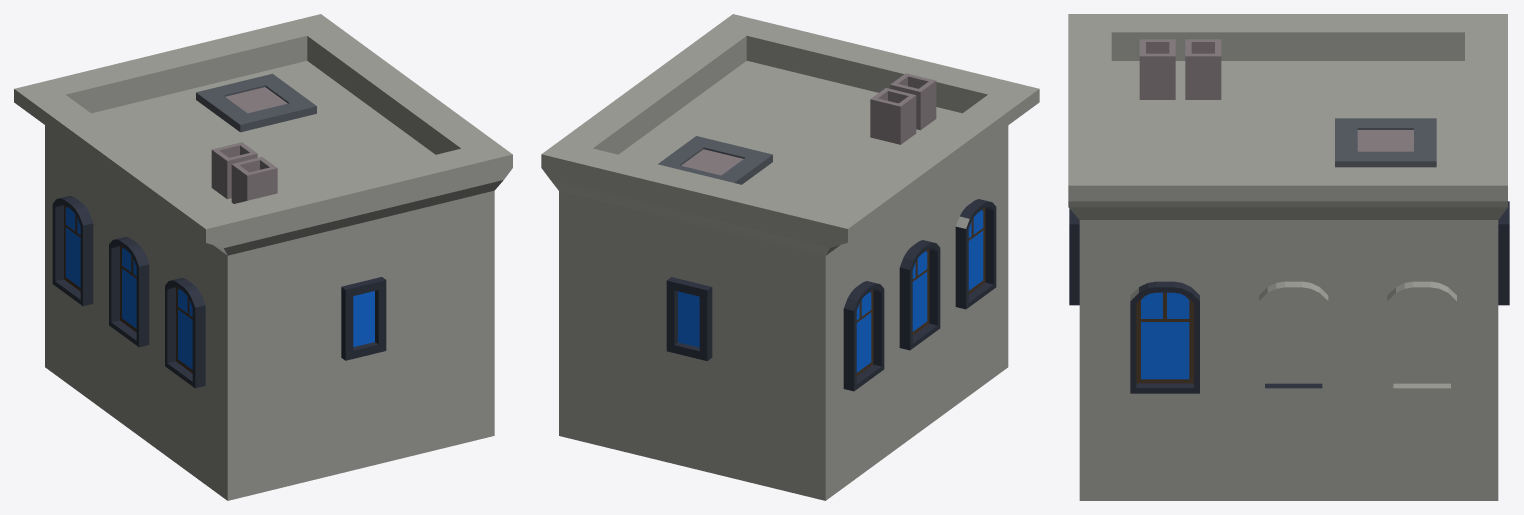
Rendered from building_1x1_2_r.glb.
3 views of the same model, side by side, from view 1: azimuth 30°, elevation 25°; view 2: azimuth 150°, elevation 25°; view 3: azimuth 270°, elevation 25° (orthographic). The views are drawn at different scales.
Parts seen in each view (by area): view 1: SecondFloor; view 2: SecondFloor; view 3: SecondFloor.
Part boxes in pixels (x1,y1,x2,y2): SecondFloor: [14, 14, 512, 500]; SecondFloor: [541, 14, 1039, 500]; SecondFloor: [1068, 14, 1509, 500].
Size of the model in its own units: 1.74 by 1.6 by 1.9.
